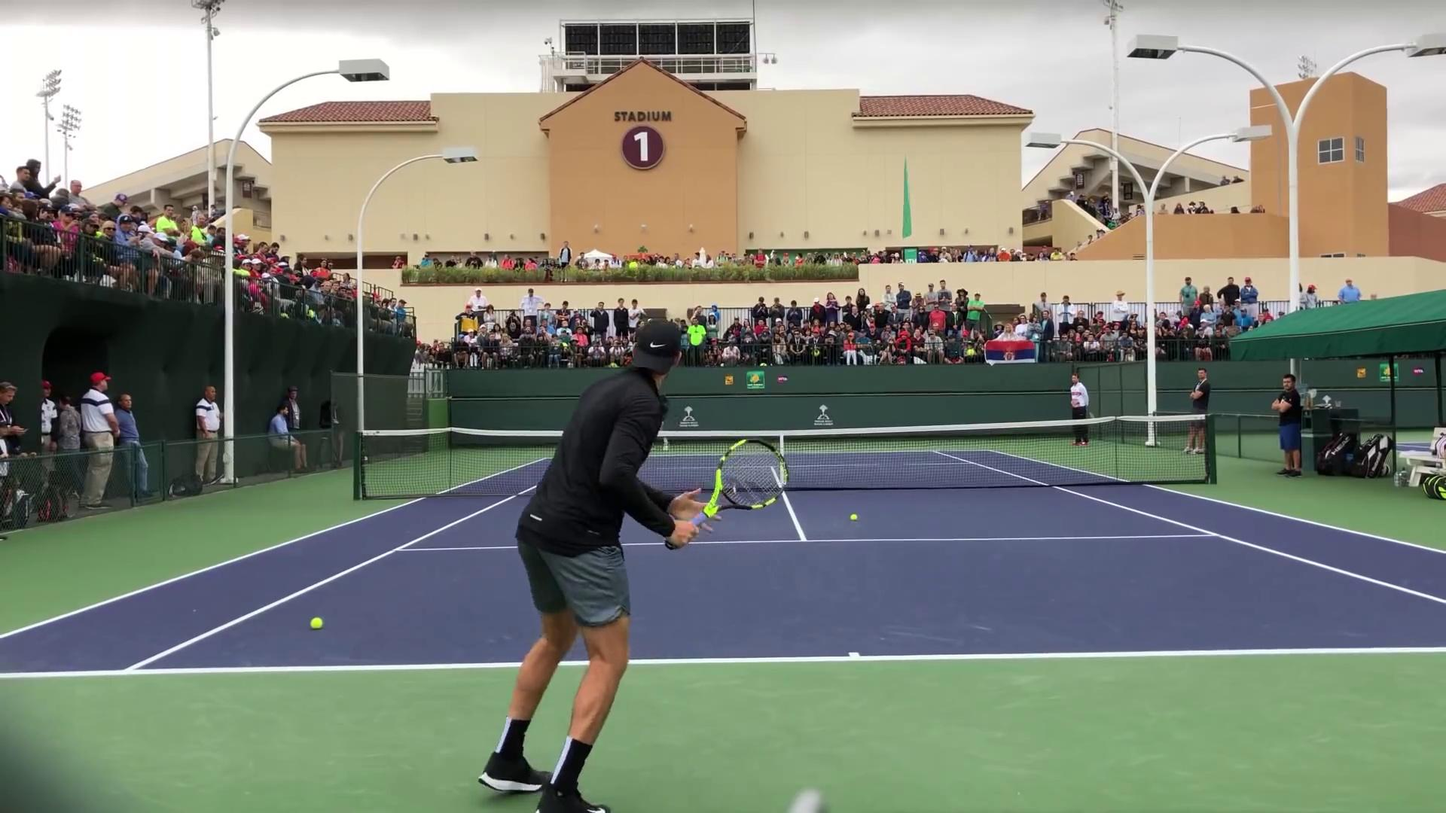ball: (309, 616, 323, 629), (850, 514, 859, 521)
